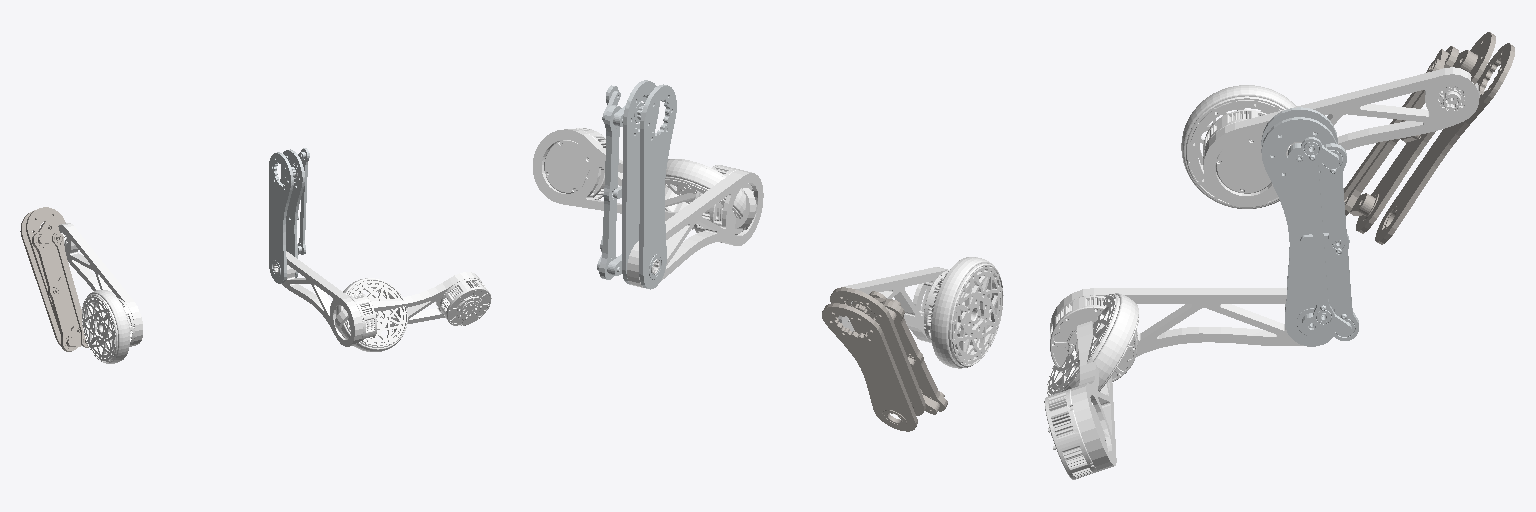
The robot description file, URDF, robot "practice3":
<?xml version="1.0" encoding="utf-8"?>
<!-- This URDF was automatically created by SolidWorks to URDF Exporter! Originally created by [author] ([email redacted]) 
     Commit Version: 1.6.0-4-g7f85cfe  Build Version: 1.6.7995.38578
     For more information, please see http://wiki.ros.org/sw_urdf_exporter -->
<robot
  name="practice3">
  <link
    name="base_link">
    <inertial>
      <origin
        xyz="-0.00018248850302429 0.161261432437795 0.0109286046061279"
        rpy="0 0 0" />
      <mass
        value="10.1429242656751" />
      <inertia
        ixx="0.0205678801380074"
        ixy="-3.11068338835003E-05"
        ixz="4.65522786078385E-06"
        iyy="0.0228394087441496"
        iyz="3.01548727899228E-05"
        izz="0.0177091815702901" />
    </inertial>
    <visual>
      <origin
        xyz="-0.00018248850302429 0.161261432437795 0.0109286046061279"
        rpy="0 0 0" />
      <geometry>
        <mesh
          filename="package://practice3_urdf/meshes/base_link.STL" />
      </geometry>
      <material
        name="">
        <color
          rgba="0.898039215686275 0.917647058823529 0.929411764705882 1" />
      </material>
    </visual>
    <collision>
      <origin
        xyz="0 0 0"
        rpy="0 0 0" />
      <geometry>
        <mesh
          filename="package://practice3_urdf/meshes/base_link.STL" />
      </geometry>
    </collision>
  </link>
  <link
    name="L_Hip_Link">
    <inertial>
      <origin
        xyz="0.0112856070953729 0.00923767050850216 -0.0826746082497443"
        rpy="0 0 0" />
      <mass
        value="0.344128323066193" />
      <inertia
        ixx="0.000797752652752844"
        ixy="2.36540697523747E-07"
        ixz="-3.81694171284841E-06"
        iyy="0.000848127698801817"
        iyz="3.4668848122138E-07"
        izz="5.36417702203713E-05" />
    </inertial>
    <visual>
      <origin
        xyz="0 0 0"
        rpy="0 0 0" />
      <geometry>
        <mesh
          filename="package://practice3_urdf/meshes/L_Hip_Link.STL" />
      </geometry>
      <material
        name="">
        <color
          rgba="0.898039215686275 0.917647058823529 0.929411764705882 1" />
      </material>
    </visual>
    <collision>
      <origin
        xyz="0 0 0"
        rpy="0 0 0" />
      <geometry>
        <mesh
          filename="package://practice3_urdf/meshes/L_Hip_Link.STL" />
      </geometry>
    </collision>
  </link>
  <joint
    name="L_Hip_Joint"
    type="revolute">
    <origin
      xyz="0.18415 0.0569999999999967 0.202799999999937"
      rpy="0 -0.0761333556172417 1.5707963267949" />
    <parent
      link="base_link" />
    <child
      link="L_Hip_Link" />
    <axis
      xyz="0.997103255683817 0 -0.0760598284558406" />
    <limit
      lower="0"
      upper="0"
      effort="0"
      velocity="0" />
  </joint>
  <link
    name="L_Knee_Link">
    <inertial>
      <origin
        xyz="0.000327954621059973 -0.0167326580811364 -0.0647316033766722"
        rpy="0 0 0" />
      <mass
        value="0.302555540985452" />
      <inertia
        ixx="0.00123687293679188"
        ixy="3.54837218949674E-07"
        ixz="6.67405883963631E-07"
        iyy="0.00104855748621674"
        iyz="-0.000268452954496764"
        izz="0.00020681357927413" />
    </inertial>
    <visual>
      <origin
        xyz="0 0 0"
        rpy="0 0 0" />
      <geometry>
        <mesh
          filename="package://practice3_urdf/meshes/L_Knee_Link.STL" />
      </geometry>
      <material
        name="">
        <color
          rgba="1 1 1 1" />
      </material>
    </visual>
    <collision>
      <origin
        xyz="0 0 0"
        rpy="0 0 0" />
      <geometry>
        <mesh
          filename="package://practice3_urdf/meshes/L_Knee_Link.STL" />
      </geometry>
    </collision>
  </link>
  <joint
    name="L_Knee_Joint"
    type="revolute">
    <origin
      xyz="-0.201693335514952 0.0156000000000005 -0.16999156630502"
      rpy="1.84994305906754 0 -1.5707963267949" />
    <parent
      link="L_Hip_Link" />
    <child
      link="L_Knee_Link" />
    <axis
      xyz="0 0.347852975024765 0.937549096189858" />
    <limit
      lower="0"
      upper="0"
      effort="0"
      velocity="0" />
  </joint>
  <link
    name="L_Ankle_Link">
    <inertial>
      <origin
        xyz="0.000327954621059973 -0.0167326580811364 -0.0647316033766722"
        rpy="0 0 0" />
      <mass
        value="0.302555540985452" />
      <inertia
        ixx="0.00123687293679188"
        ixy="3.54837218949674E-07"
        ixz="6.6740588396363E-07"
        iyy="0.00104855748621674"
        iyz="-0.000268452954496763"
        izz="0.00020681357927413" />
    </inertial>
    <visual>
      <origin
        xyz="0 0 0"
        rpy="0 0 0" />
      <geometry>
        <mesh
          filename="package://practice3_urdf/meshes/L_Ankle_Link.STL" />
      </geometry>
      <material
        name="">
        <color
          rgba="1 1 1 1" />
      </material>
    </visual>
    <collision>
      <origin
        xyz="0 0 0"
        rpy="0 0 0" />
      <geometry>
        <mesh
          filename="package://practice3_urdf/meshes/L_Ankle_Link.STL" />
      </geometry>
    </collision>
  </link>
  <joint
    name="L_Ankle_Joint"
    type="fixed">
    <origin
      xyz="0 0 0"
      rpy="0 0 0" />
    <parent
      link="L_Knee_Link" />
    <child
      link="L_Ankle_Link" />
    <axis
      xyz="0 0 0" />
  </joint>
  <link
    name="L_Wheel_Link">
    <inertial>
      <origin
        xyz="-0.0071058927484485 -4.16333634234434E-17 4.16333634234434E-17"
        rpy="0 0 0" />
      <mass
        value="0.227350411005584" />
      <inertia
        ixx="0.000433145538845632"
        ixy="-6.62316523357679E-19"
        ixz="4.09222190179924E-20"
        iyy="0.000219342296719081"
        iyz="-5.42101086242752E-20"
        izz="0.000219342296719081" />
    </inertial>
    <visual>
      <origin
        xyz="0 0 0"
        rpy="0 0 0" />
      <geometry>
        <mesh
          filename="package://practice3_urdf/meshes/L_Wheel_Link.STL" />
      </geometry>
      <material
        name="">
        <color
          rgba="1 1 1 1" />
      </material>
    </visual>
    <collision>
      <origin
        xyz="0 0 0"
        rpy="0 0 0" />
      <geometry>
        <mesh
          filename="package://practice3_urdf/meshes/L_Wheel_Link.STL" />
      </geometry>
    </collision>
  </link>
  <joint
    name="L_Wheel_Joint"
    type="revolute">
    <origin
      xyz="0.039499999996716 0 0"
      rpy="-0.970932593051184 0 0" />
    <parent
      link="L_Ankle_Link" />
    <child
      link="L_Wheel_Link" />
    <axis
      xyz="0 0.577491348313505 -0.816396804637947" />
    <limit
      lower="0"
      upper="0"
      effort="0"
      velocity="0" />
  </joint>
  <link
    name="R_Hip_Link">
    <inertial>
      <origin
        xyz="0.0117536026473243 -0.013943067505786 -0.0949549900093473"
        rpy="0 0 0" />
      <mass
        value="0.337321088171608" />
      <inertia
        ixx="0.000798084382550188"
        ixy="7.17049119779467E-08"
        ixz="-2.43050588166002E-05"
        iyy="0.000848108874132959"
        iyz="-1.62164192785438E-07"
        izz="5.30345352819092E-05" />
    </inertial>
    <visual>
      <origin
        xyz="0 0 0"
        rpy="0 0 0" />
      <geometry>
        <mesh
          filename="package://practice3_urdf/meshes/R_Hip_Link.STL" />
      </geometry>
      <material
        name="">
        <color
          rgba="0.776470588235294 0.756862745098039 0.737254901960784 1" />
      </material>
    </visual>
    <collision>
      <origin
        xyz="0 0 0"
        rpy="0 0 0" />
      <geometry>
        <mesh
          filename="package://practice3_urdf/meshes/R_Hip_Link.STL" />
      </geometry>
    </collision>
  </link>
  <joint
    name="R_Hip_Joint"
    type="revolute">
    <origin
      xyz="-0.188649999999999 0.224484620762522 0.115844278991675"
      rpy="3.14159265358979 1.00070721609115 -1.5707963267949" />
    <parent
      link="base_link" />
    <child
      link="R_Hip_Link" />
    <axis
      xyz="0.539707068979717 0 -0.841852884828058" />
    <limit
      lower="0"
      upper="0"
      effort="0"
      velocity="0" />
  </joint>
  <link
    name="R_Knee_Link">
    <inertial>
      <origin
        xyz="0.000327946444965393 0.0142574780867258 -0.0653644587147435"
        rpy="0 0 0" />
      <mass
        value="0.302555410163473" />
      <inertia
        ixx="0.00123687316083849"
        ixy="-1.55215153687738E-07"
        ixz="6.77446763167286E-07"
        iyy="0.00106905805810788"
        iyz="0.000233250007048787"
        izz="0.000186313230199201" />
    </inertial>
    <visual>
      <origin
        xyz="0 0 0"
        rpy="0 0 0" />
      <geometry>
        <mesh
          filename="package://practice3_urdf/meshes/R_Knee_Link.STL" />
      </geometry>
      <material
        name="">
        <color
          rgba="1 1 1 1" />
      </material>
    </visual>
    <collision>
      <origin
        xyz="0 0 0"
        rpy="0 0 0" />
      <geometry>
        <mesh
          filename="package://practice3_urdf/meshes/R_Knee_Link.STL" />
      </geometry>
    </collision>
  </link>
  <joint
    name="R_Knee_Joint"
    type="revolute">
    <origin
      xyz="0.183638766649337 -0.0200999999999994 -0.138480335728618"
      rpy="1.97860271658443 0 1.5707963267949" />
    <parent
      link="R_Hip_Link" />
    <child
      link="R_Knee_Link" />
    <axis
      xyz="0 0.55876909327944 -0.829323278580598" />
    <limit
      lower="0"
      upper="0"
      effort="0"
      velocity="0" />
  </joint>
  <link
    name="R_Ankle_Link">
    <inertial>
      <origin
        xyz="0.000327946444965393 0.0142574780867258 -0.0653644587147435"
        rpy="0 0 0" />
      <mass
        value="0.302555410163473" />
      <inertia
        ixx="0.00123687316083849"
        ixy="-1.55215153687737E-07"
        ixz="6.77446763167286E-07"
        iyy="0.00106905805810788"
        iyz="0.000233250007048787"
        izz="0.000186313230199201" />
    </inertial>
    <visual>
      <origin
        xyz="0 0 0"
        rpy="0 0 0" />
      <geometry>
        <mesh
          filename="package://practice3_urdf/meshes/R_Ankle_Link.STL" />
      </geometry>
      <material
        name="">
        <color
          rgba="1 1 1 1" />
      </material>
    </visual>
    <collision>
      <origin
        xyz="0 0 0"
        rpy="0 0 0" />
      <geometry>
        <mesh
          filename="package://practice3_urdf/meshes/R_Ankle_Link.STL" />
      </geometry>
    </collision>
  </link>
  <joint
    name="R_Ankle_Joint"
    type="fixed">
    <origin
      xyz="0 0 0"
      rpy="0 0 0" />
    <parent
      link="R_Knee_Link" />
    <child
      link="R_Ankle_Link" />
    <axis
      xyz="0 0 0" />
  </joint>
  <link
    name="R_Wheel_Link">
    <inertial>
      <origin
        xyz="-0.00710589274844844 -1.38777878078145E-17 -6.93889390390723E-18"
        rpy="0 0 0" />
      <mass
        value="0.227350411005584" />
      <inertia
        ixx="0.000433145538845632"
        ixy="-4.68100861984611E-19"
        ixz="3.14792763618656E-19"
        iyy="0.000219342296719081"
        iyz="6.7762635780344E-21"
        izz="0.000219342296719081" />
    </inertial>
    <visual>
      <origin
        xyz="0 0 0"
        rpy="0 0 0" />
      <geometry>
        <mesh
          filename="package://practice3_urdf/meshes/R_Wheel_Link.STL" />
      </geometry>
      <material
        name="">
        <color
          rgba="1 1 1 1" />
      </material>
    </visual>
    <collision>
      <origin
        xyz="0 0 0"
        rpy="0 0 0" />
      <geometry>
        <mesh
          filename="package://practice3_urdf/meshes/R_Wheel_Link.STL" />
      </geometry>
    </collision>
  </link>
  <joint
    name="R_Wheel_Joint"
    type="revolute">
    <origin
      xyz="0.0395 0 0"
      rpy="-0.027332 0 0" />
    <parent
      link="R_Ankle_Link" />
    <child
      link="R_Wheel_Link" />
    <axis
      xyz="0 0.577491348313505 -0.816396804637947" />
    <limit
      lower="0"
      upper="0"
      effort="0"
      velocity="0" />
  </joint>
</robot>

--- What the picture shows (computed from the rendered views, not written in the file) ---
3 views of the same robot in one strip: view 1: azimuth 30°, elevation 25°; view 2: azimuth 150°, elevation 25°; view 3: azimuth 270°, elevation 25° (orthographic).
Robot: practice3 — 9 links, 8 joints (6 revolute, 2 fixed); root link base_link; default pose: all joints at 0.
Links seen in each view (by area): view 1: R_Hip_Link, L_Hip_Link, L_Knee_Link, L_Ankle_Link, R_Wheel_Link, R_Ankle_Link, L_Wheel_Link; view 2: L_Hip_Link, R_Hip_Link, R_Wheel_Link, L_Knee_Link, L_Ankle_Link, R_Ankle_Link, L_Wheel_Link; view 3: L_Hip_Link, R_Ankle_Link, L_Ankle_Link, R_Hip_Link, L_Knee_Link, L_Wheel_Link, R_Wheel_Link.
Link boxes in pixels (<box>): R_Hip_Link: <box>20,207,88,351</box>; L_Hip_Link: <box>269,148,309,283</box>; L_Knee_Link: <box>335,272,491,334</box>; L_Ankle_Link: <box>273,251,376,346</box>; R_Wheel_Link: <box>82,290,129,363</box>; R_Ankle_Link: <box>58,223,142,347</box>; L_Wheel_Link: <box>336,278,407,351</box>; L_Hip_Link: <box>597,80,676,289</box>; R_Hip_Link: <box>822,287,947,431</box>; R_Wheel_Link: <box>930,257,1003,368</box>; L_Knee_Link: <box>533,128,756,228</box>; L_Ankle_Link: <box>627,165,763,287</box>; R_Ankle_Link: <box>838,267,974,343</box>; L_Wheel_Link: <box>665,159,751,229</box>; L_Hip_Link: <box>1261,107,1358,346</box>; R_Ankle_Link: <box>1203,67,1479,206</box>; L_Ankle_Link: <box>1050,288,1303,381</box>; R_Hip_Link: <box>1344,32,1514,244</box>; L_Knee_Link: <box>1044,321,1116,479</box>; L_Wheel_Link: <box>1047,293,1138,395</box>; R_Wheel_Link: <box>1181,85,1301,208</box>.
Bounding box of the posed robot: 0.6352 × 0.4304 × 0.2931 m (x, y, z).
Meshes: 9 distinct files referenced, 7 mesh visuals loaded (7 binary STL); not drawn: 2 (reference not matched to a file when rendering).